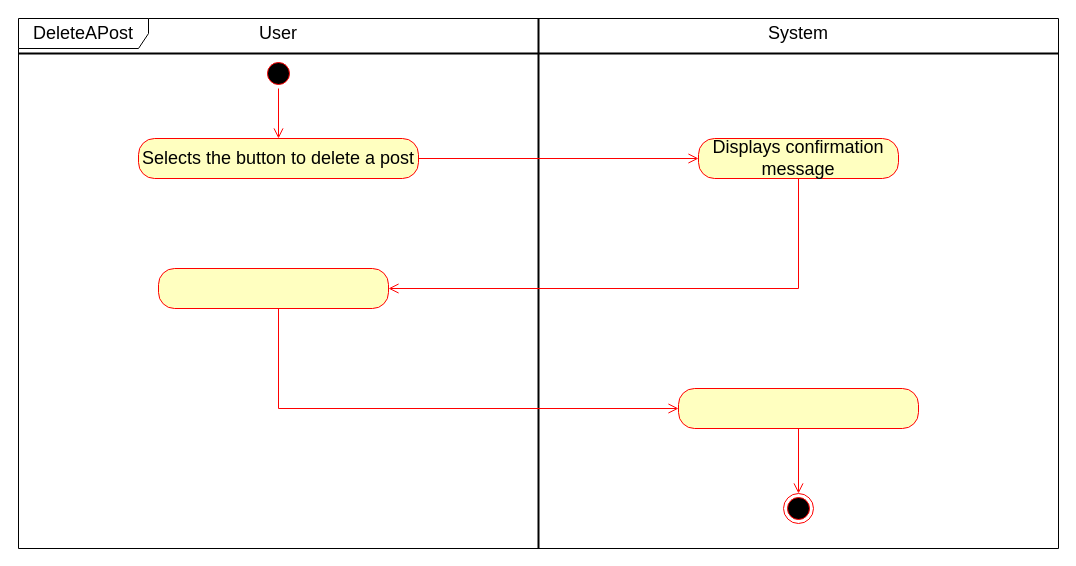
This 1076x566 diagram has some shape labels left out. The shapes that lost their labels are listed below. From the top down, each one's centre as x and y in pixels, then its label:
[273,288]: Confirms the operation
[798,408]: The post is deleted from the forum
